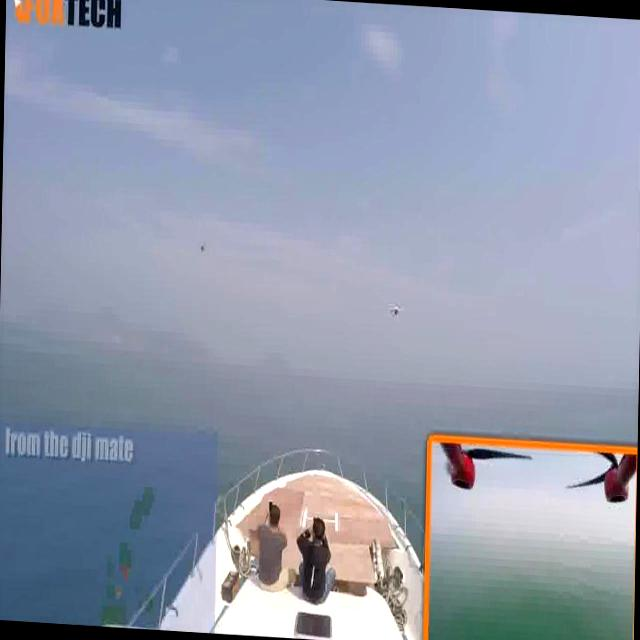drone: (386, 296, 408, 322)
